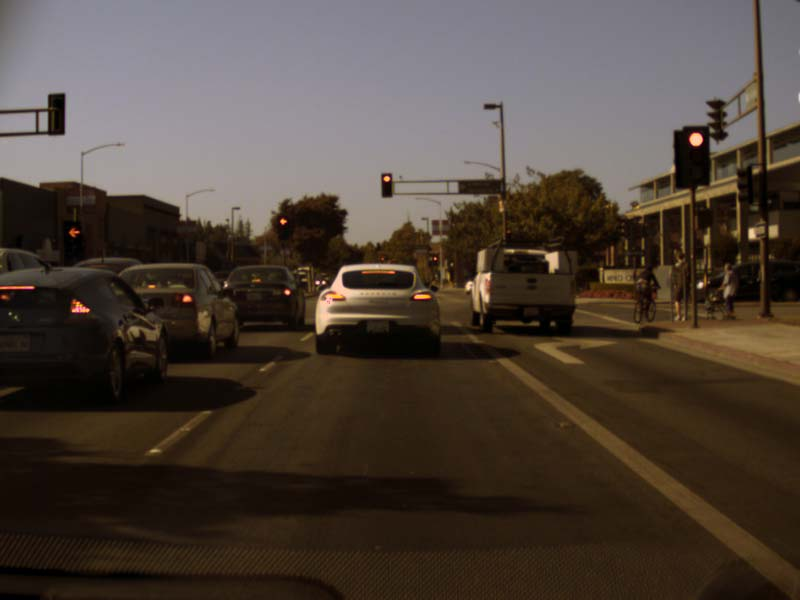Red: (672, 127, 709, 186), (65, 218, 84, 256), (277, 214, 289, 235), (381, 173, 391, 198), (432, 254, 438, 264), (506, 228, 511, 240), (379, 254, 386, 262)
